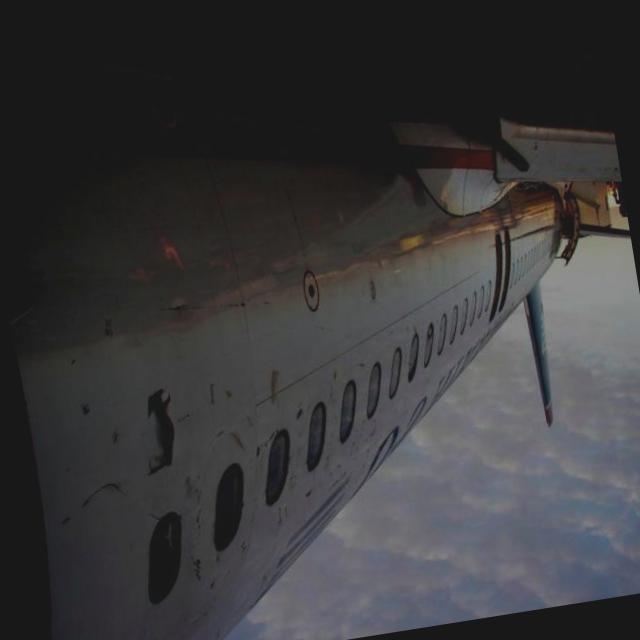crack: (128, 378, 193, 486)
